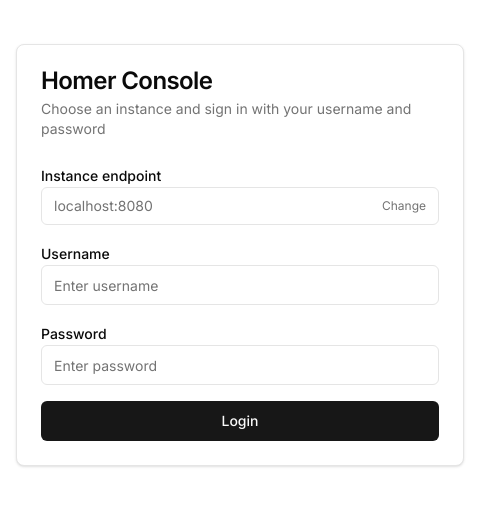
Test: LoginPage › shows a wait message and disables the button when login is rate-limited
The width and height of the screenshot is (481, 512).
In the field labelled "Username": point(240, 285) [41,265,439,305], type "alice"
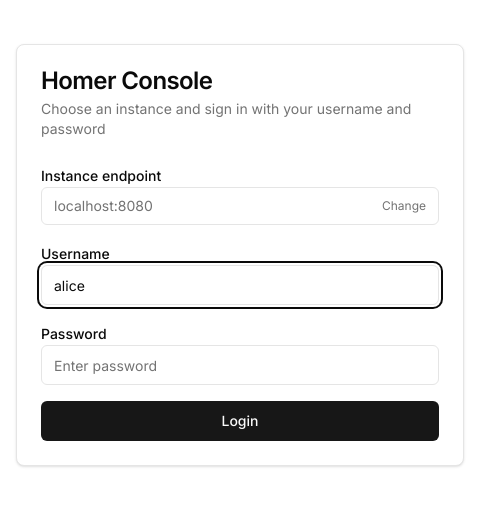
In the password field labelled "Password": point(240, 365) [41,345,439,385], type "pw"
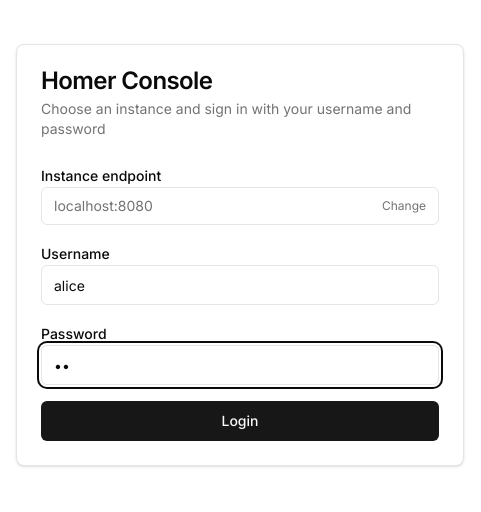
Click the button "Login": point(240, 421) [41,401,439,441]
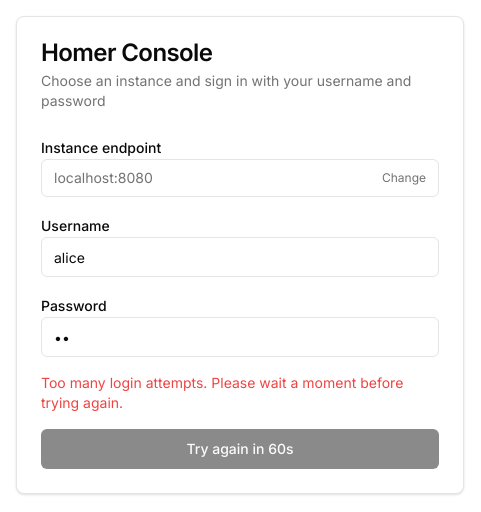
expect the text "Too many login attempts" is shown: met, box [41,374,403,411]
expect the button "Try again in 60s" is disabled: met, box [41,429,439,469]
